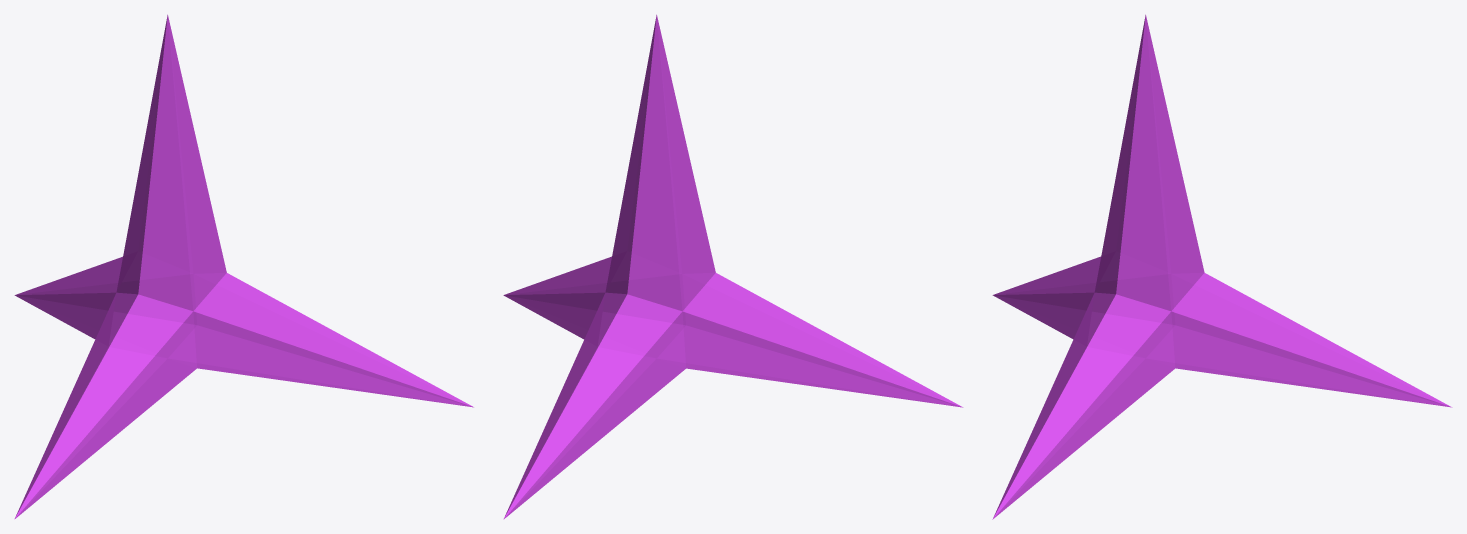
Rendered from HexakisTetrahedron_n4.obj.
3 views of the same model, side by side, from view 1: azimuth 30°, elevation 25°; view 2: azimuth 150°, elevation 25°; view 3: azimuth 270°, elevation 25° (orthographic).
Bounding box in the file's own units: 10.4 × 8.49 × 9.
